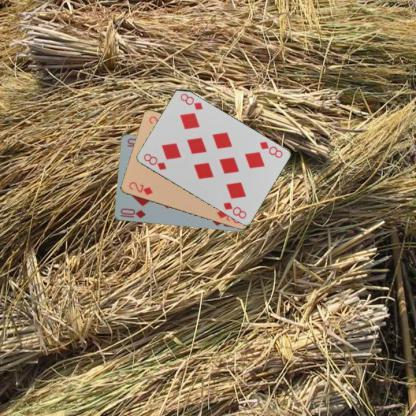10d: (117, 206, 147, 220)
2d: (126, 179, 154, 197)
8d: (140, 150, 168, 172), (256, 138, 284, 160)
